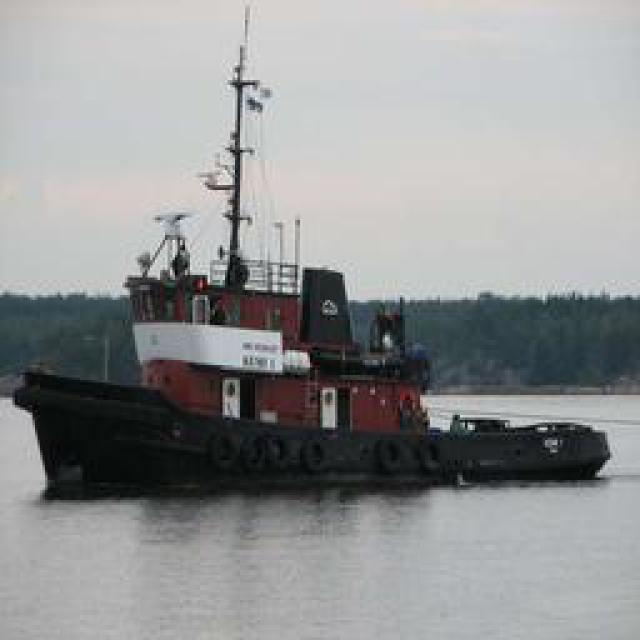Ship: (17, 59, 621, 512)
